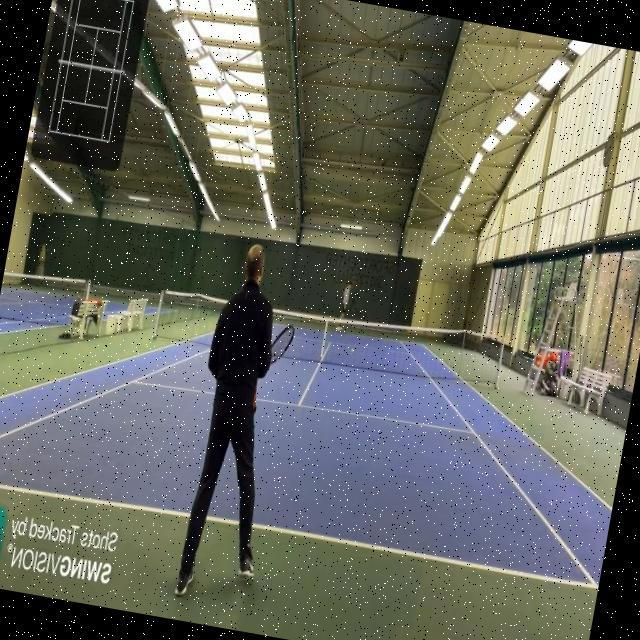court: (0, 270, 634, 591)
net: (152, 274, 506, 396)
player: (165, 238, 310, 612)
